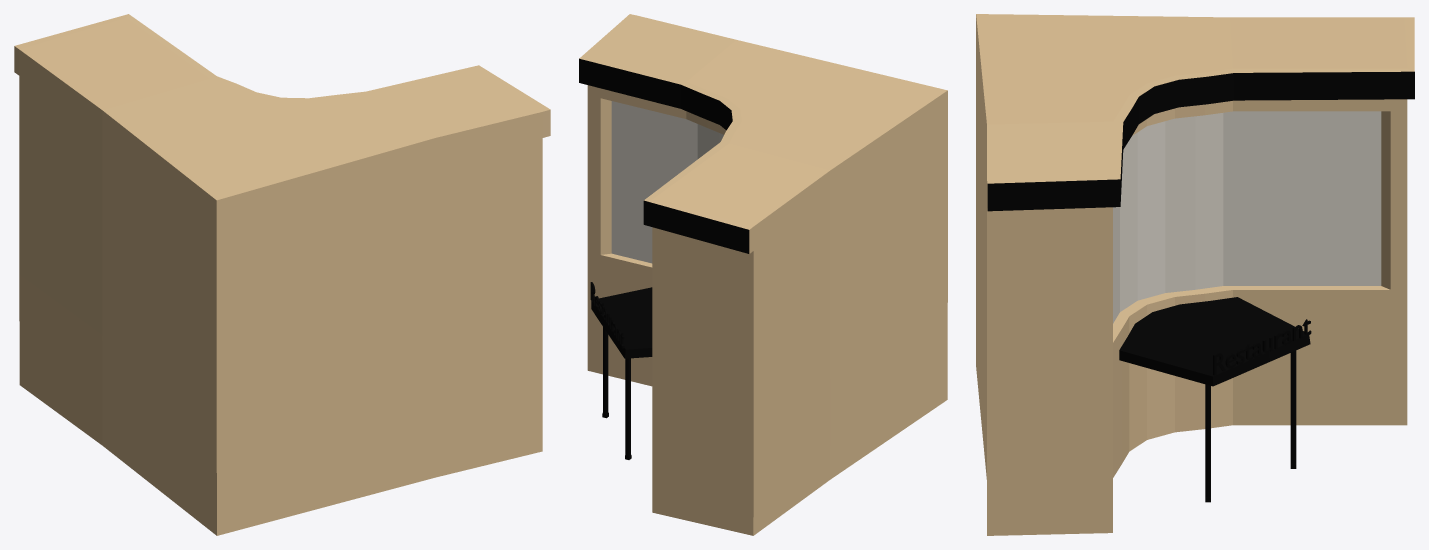
Rendered from obj.house2.fbx.
3 views of the same model, side by side, from view 1: azimuth 30°, elevation 25°; view 2: azimuth 150°, elevation 25°; view 3: azimuth 270°, elevation 25° (orthographic). The views are drawn at different scales.
Visible parts, largest first — view 1: Cube.002; view 2: Cube.002; view 3: Cube.002.
Boxes of the visible parts, x1,y1,x2,y2 form: Cube.002: (14, 14, 550, 535); Cube.002: (579, 14, 947, 535); Cube.002: (976, 14, 1414, 535).
Bounding box in the file's own units: 665 × 638 × 709.
